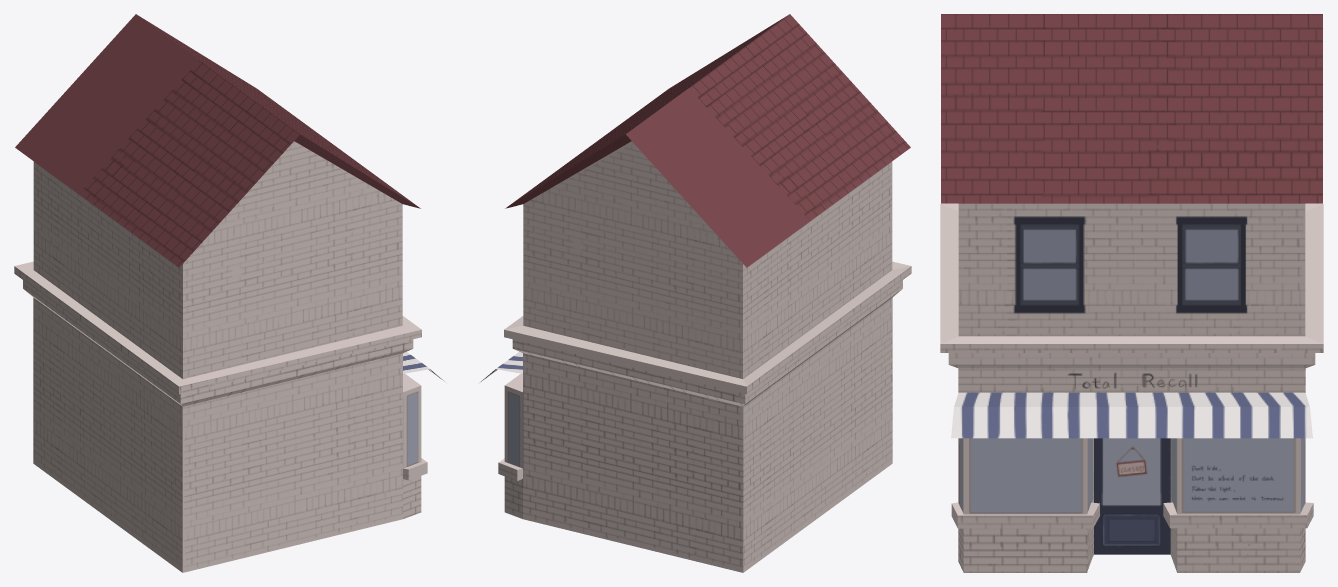
File: 商店街_中開門.fbx
3 views of the same model, side by side, from view 1: azimuth 30°, elevation 25°; view 2: azimuth 150°, elevation 25°; view 3: azimuth 270°, elevation 25° (orthographic). The views are drawn at different scales.
Parts seen in each view (by area): view 1: pCube4; view 2: pCube4; view 3: pCube4.
Boxes of the visible parts, <box> form: pCube4: <box>14,14,445,572</box>; pCube4: <box>480,14,911,572</box>; pCube4: <box>940,14,1323,572</box>.
Bounding box in the file's own units: 14.72 × 21.41 × 15.33.
